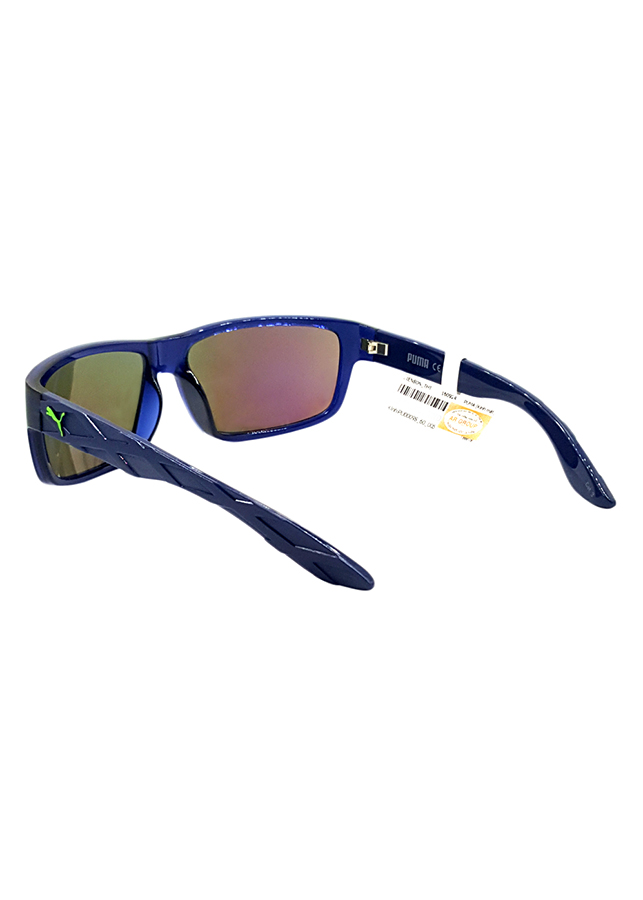Puma: (35, 402, 71, 443), (405, 347, 434, 374)
